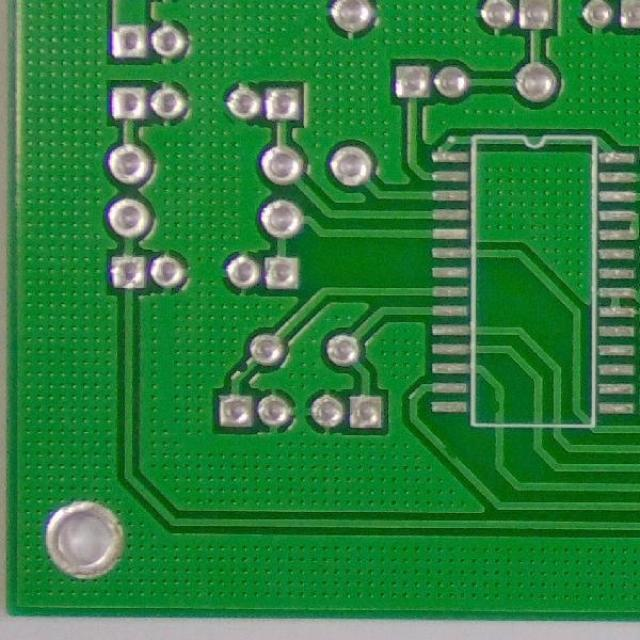MouseBite: (439, 439, 462, 464), (234, 359, 254, 381), (492, 395, 506, 419)
